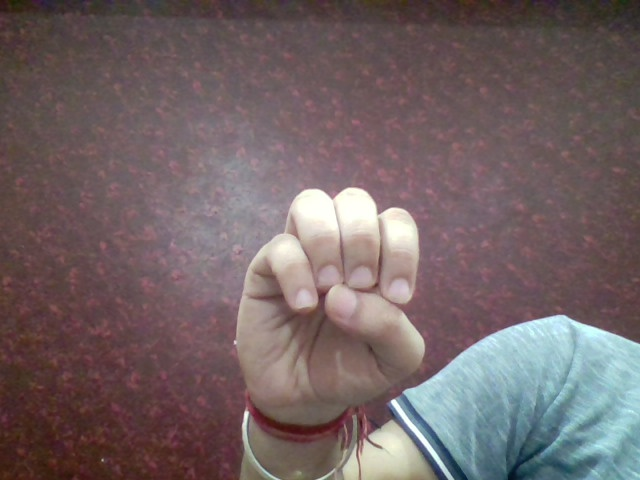e: (228, 181, 431, 405)
